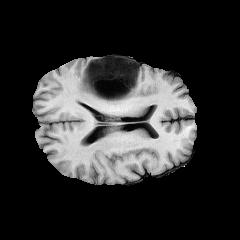glioma: (77, 57, 140, 106)
